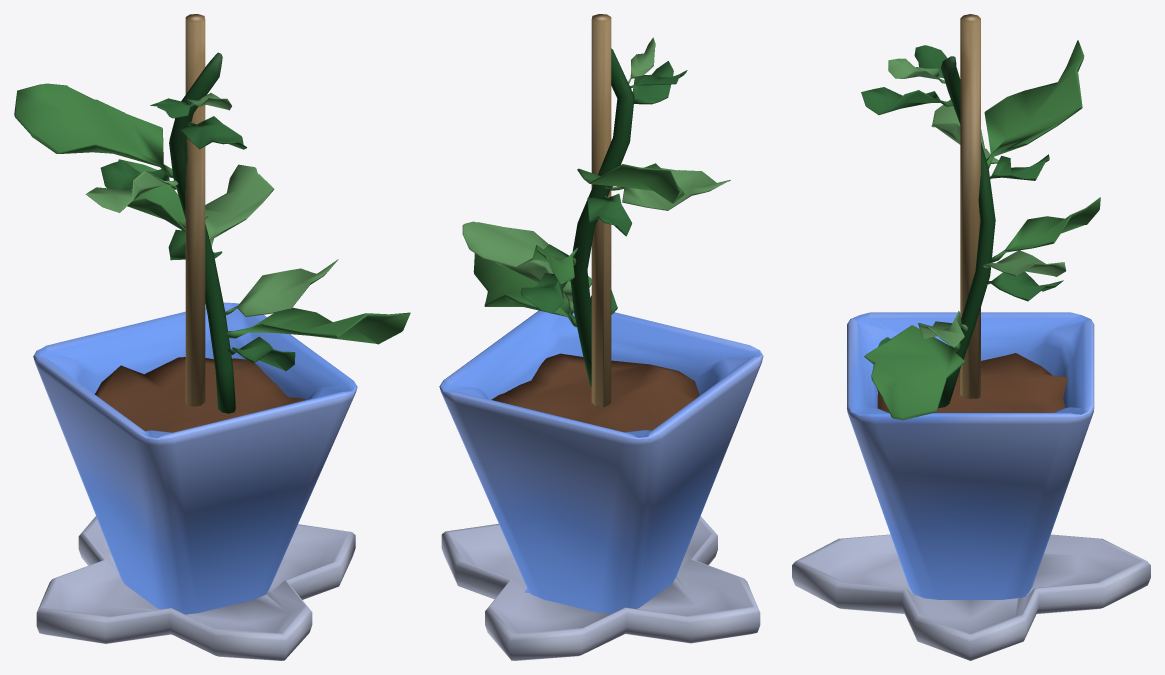
The model's file is desk plant.fbx.
3 views of the same model, side by side, from view 1: azimuth 30°, elevation 25°; view 2: azimuth 150°, elevation 25°; view 3: azimuth 270°, elevation 25° (orthographic).
Parts seen in each view (by area): view 1: Cube, Cube.001, Cube.002, good.008, Cube.004, BezierCurve.002, good, good.005, good.002, good.003, good.006, good.010 (+2 smaller); view 2: Cube, Cube.001, Cube.002, Cube.004, BezierCurve.002, good.005, good, good.008, good.006, good.007, good.004, good.003 (+3 smaller); view 3: Cube, Cube.001, Cube.004, good, good.008, Cube.002, BezierCurve.002, good.003, good.010, good.005, good.004, good.006 (+4 smaller).
Part boxes in pixels (box(x1,y1,x2,y2)): Cube: box(33, 302, 357, 614); Cube.001: box(36, 516, 355, 660); Cube.002: box(94, 357, 306, 432); good.008: box(14, 83, 173, 177); Cube.004: box(185, 14, 205, 406); BezierCurve.002: box(169, 52, 235, 413); good: box(227, 307, 410, 344); good.005: box(205, 164, 274, 246); good.002: box(224, 259, 338, 316); good.003: box(118, 159, 207, 231); good.006: box(85, 171, 178, 212); good.010: box(180, 116, 246, 149); Cube: box(439, 310, 763, 613); Cube.001: box(441, 516, 760, 660); Cube.002: box(491, 353, 699, 432); Cube.004: box(591, 14, 611, 407); BezierCurve.002: box(570, 48, 634, 386); good.005: box(462, 221, 548, 267); good: box(473, 253, 591, 327); good.008: box(577, 163, 684, 203); good.006: box(609, 168, 730, 210); good.007: box(587, 193, 631, 236); good.004: box(521, 273, 572, 313); good.003: box(532, 244, 577, 284); Cube: box(847, 312, 1094, 599); Cube.001: box(792, 534, 1150, 660); Cube.004: box(960, 14, 980, 398); good: box(864, 325, 964, 420); good.008: box(984, 40, 1084, 168); Cube.002: box(877, 353, 1068, 412); BezierCurve.002: box(938, 56, 995, 407); good.003: box(990, 197, 1100, 262); good.010: box(861, 87, 953, 114); good.005: box(983, 250, 1066, 276); good.004: box(985, 271, 1063, 301); good.006: box(931, 99, 998, 163).
Size of the model in its own units: 144 by 242 by 138.
